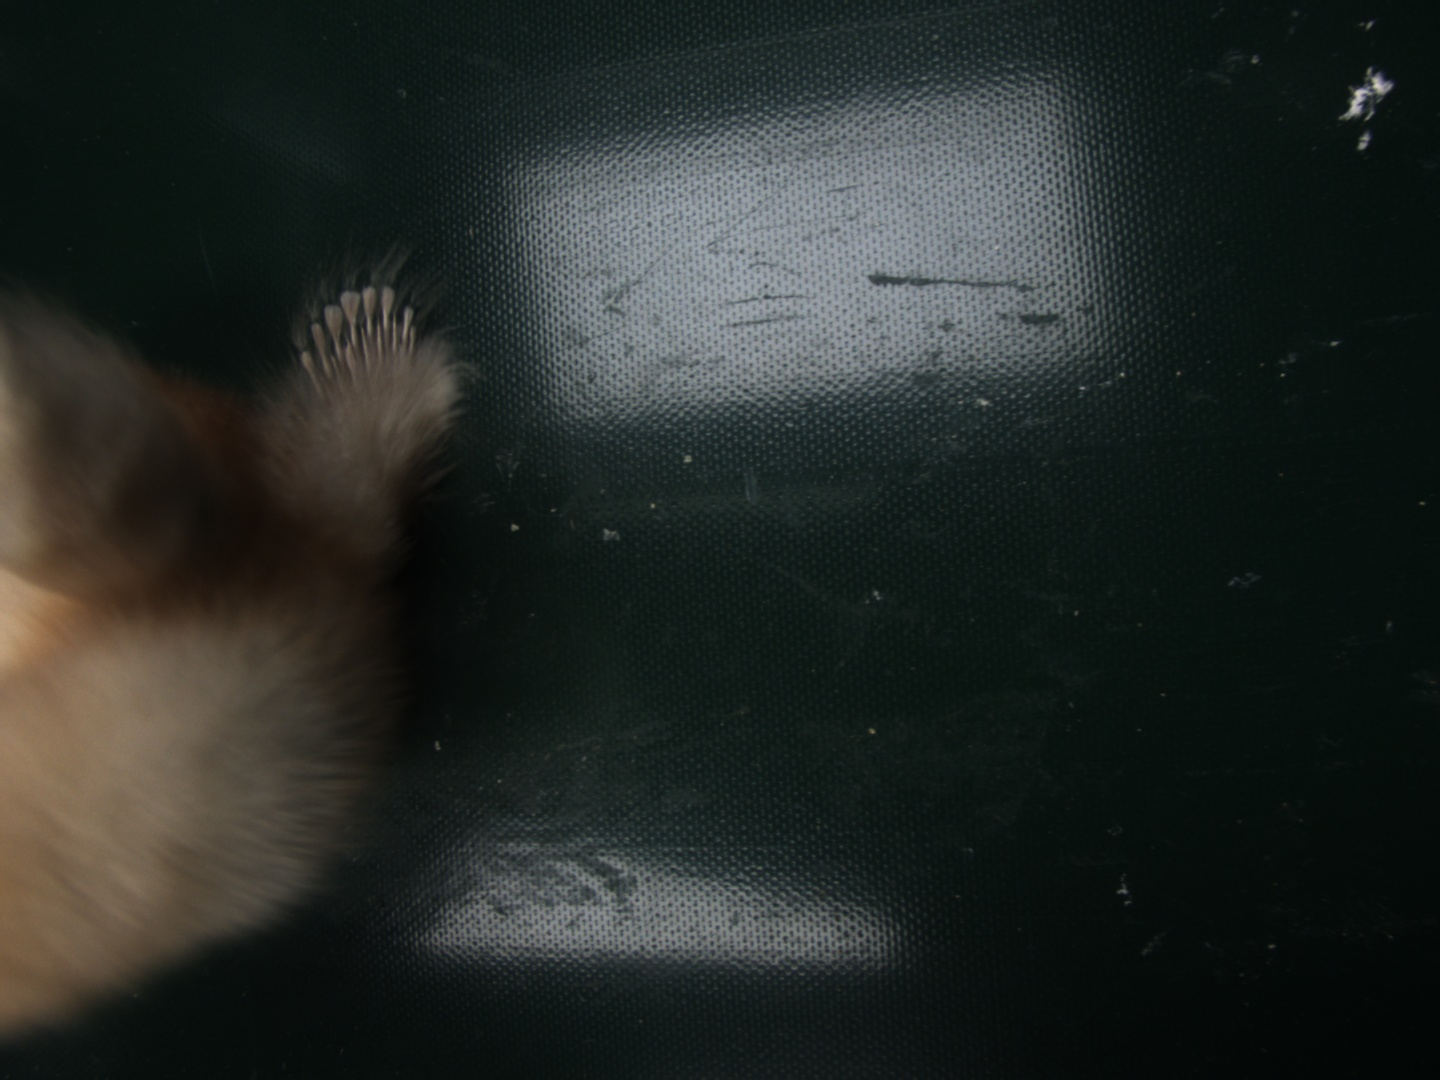female: (295, 281, 421, 403)
